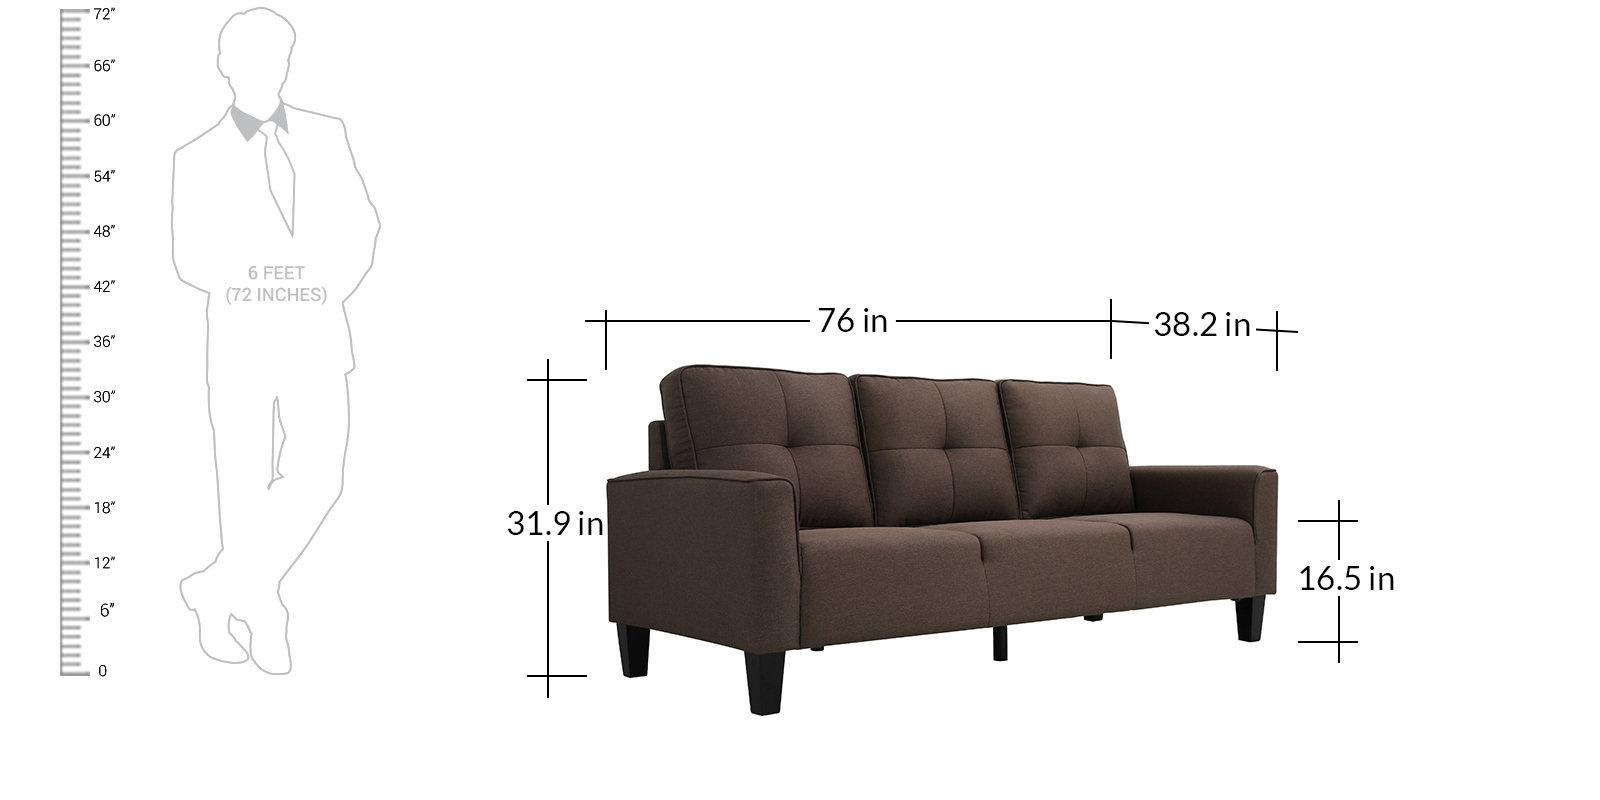Alice Three Seater Sofa in Brown Colour by Zofa: (603, 354, 1289, 693)
